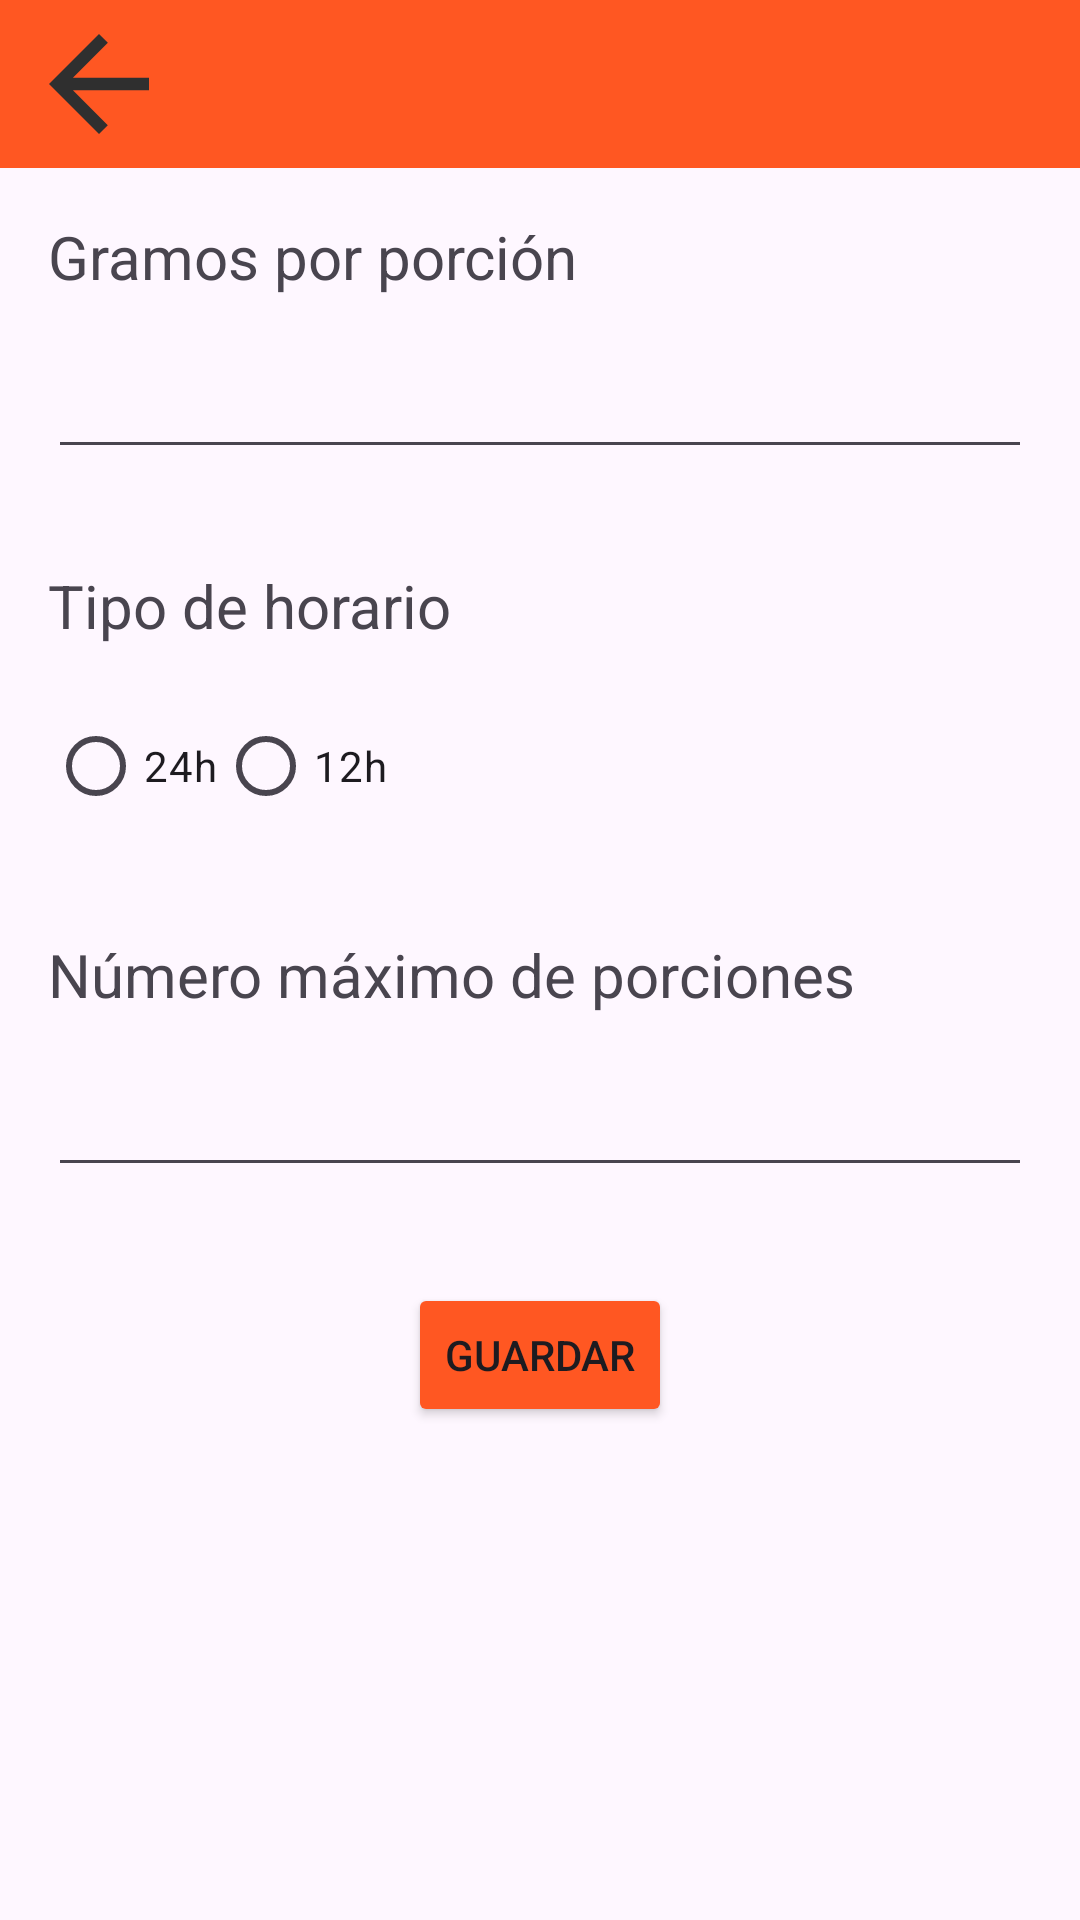

Locate icon controls on the screen. Image size 1080px×1920px, boxes as (x1=x1, y1=y1, x2=x2, y2=y2).
back arrow: (x1=49, y1=34, x2=149, y2=134)
